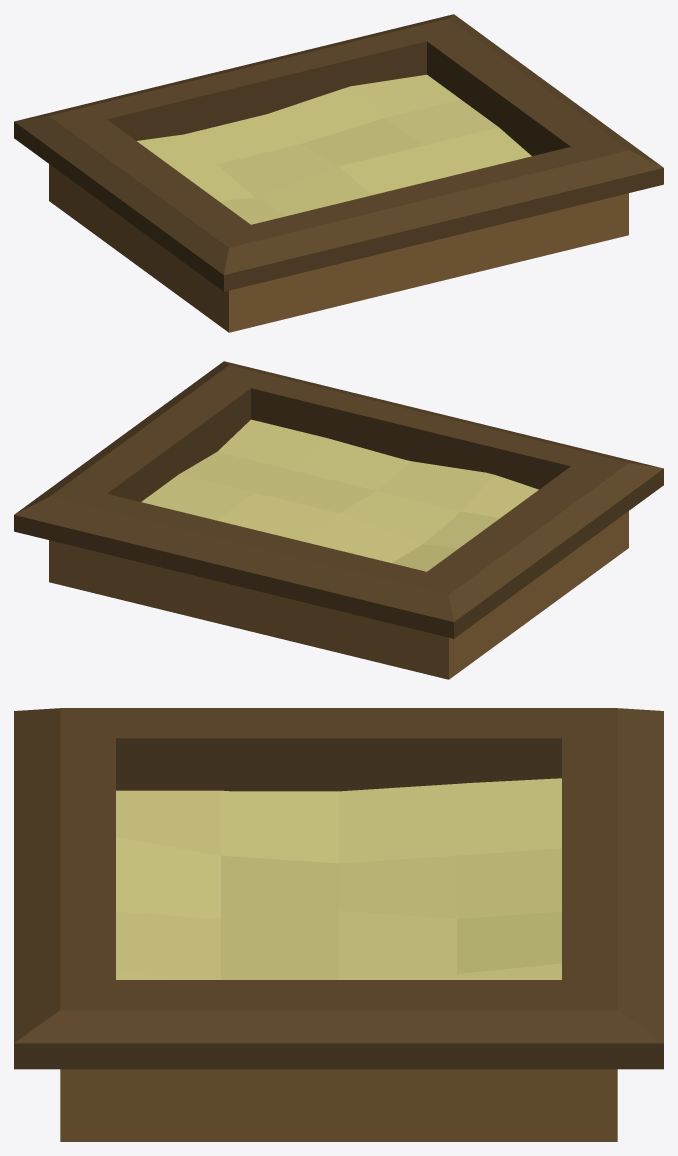
Rendered from Sandbox.fbx.
3 renders of one model, top to bottom at view 1: azimuth 30°, elevation 25°; view 2: azimuth 150°, elevation 25°; view 3: azimuth 270°, elevation 25°, orthographic. The views are drawn at different scales.
Visible parts, largest first — view 1: Cube.001; view 2: Cube.001; view 3: Cube.001.
Part boxes in pixels (x1,y1,x2,y2): Cube.001: [14, 14, 663, 332]; Cube.001: [14, 361, 663, 679]; Cube.001: [14, 708, 663, 1141].
Size of the model in its own units: 1100 by 203 by 909.
